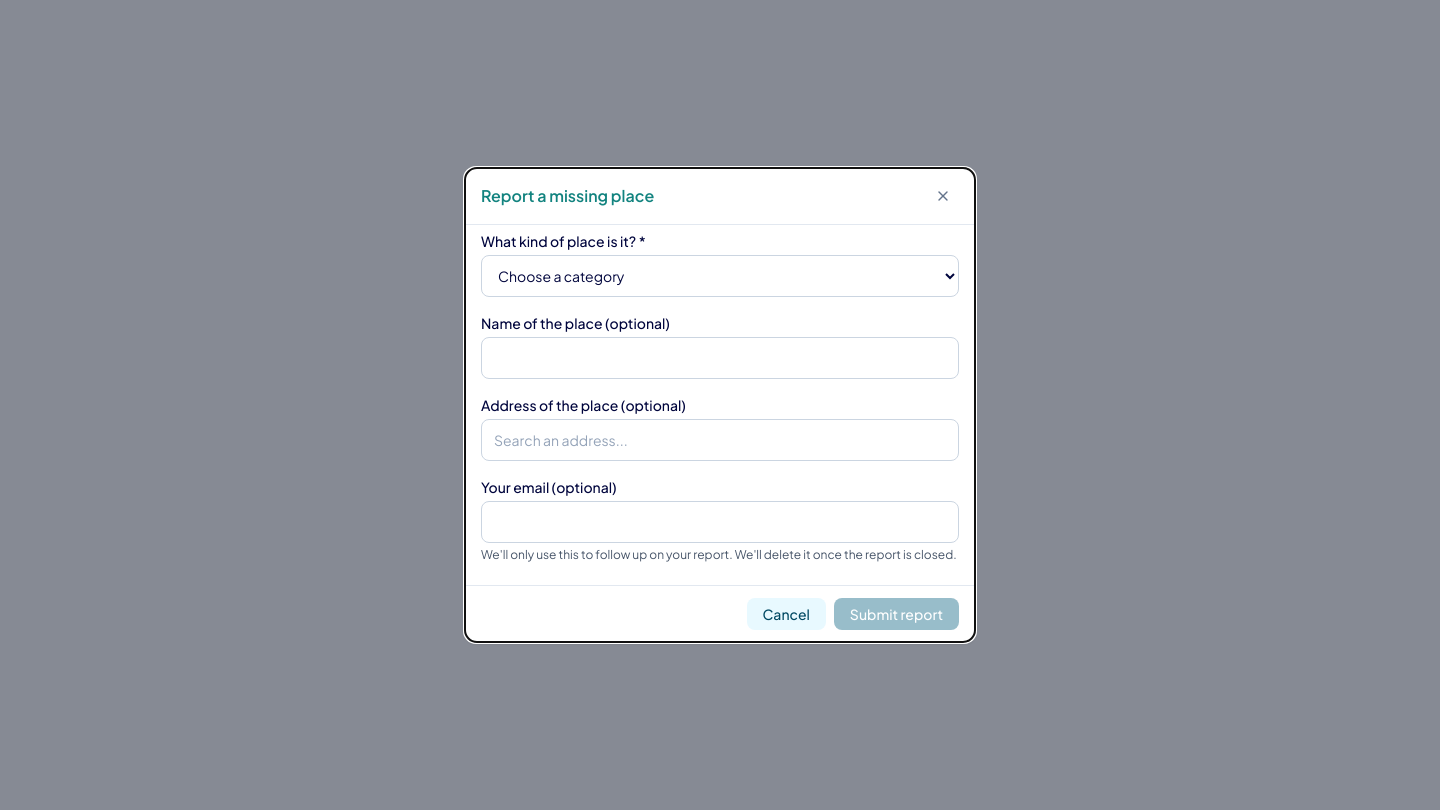
it: MapCorrectionForm › add › shows a form-level message for a 422 that names no field
Select "Restaurants" in the dropdown labelled "What kind of place is it? *": {"x": 720, "y": 276} 481,255 -> 959,297
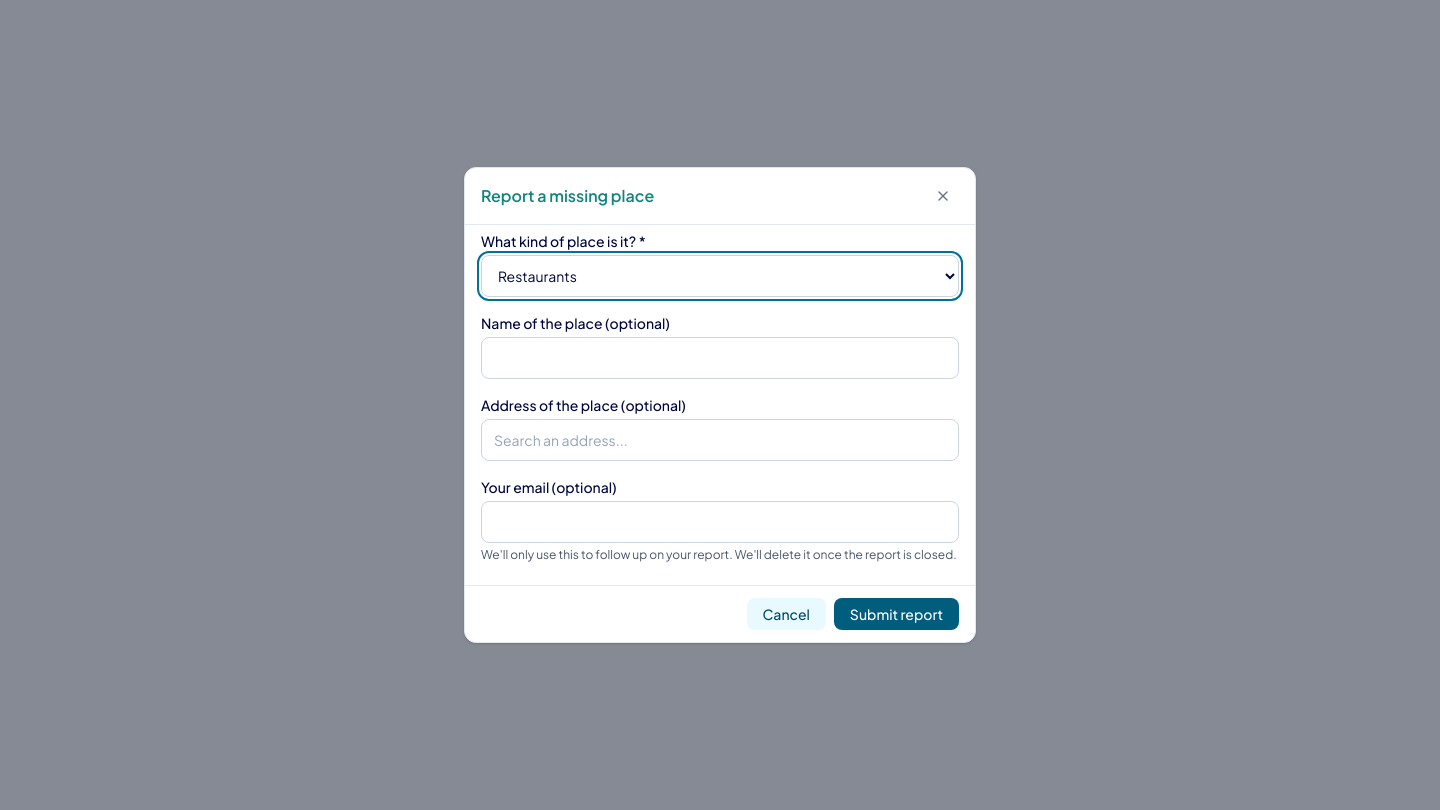
Click the button "Submit report": {"x": 896, "y": 614} 834,598 -> 959,630
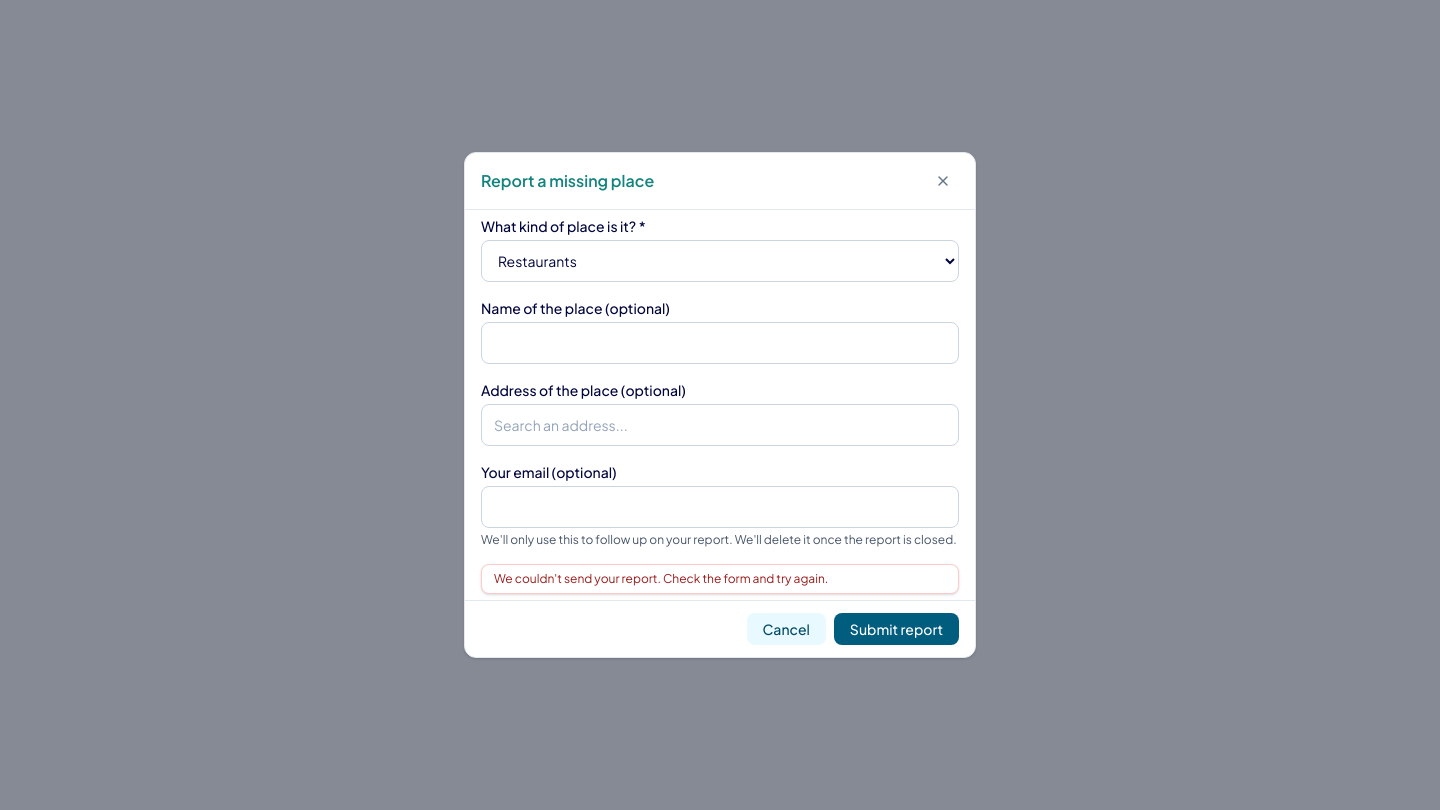
Expected: the text "We couldn't send your report. Check the form and try again." is shown, 494,571 -> 828,587
